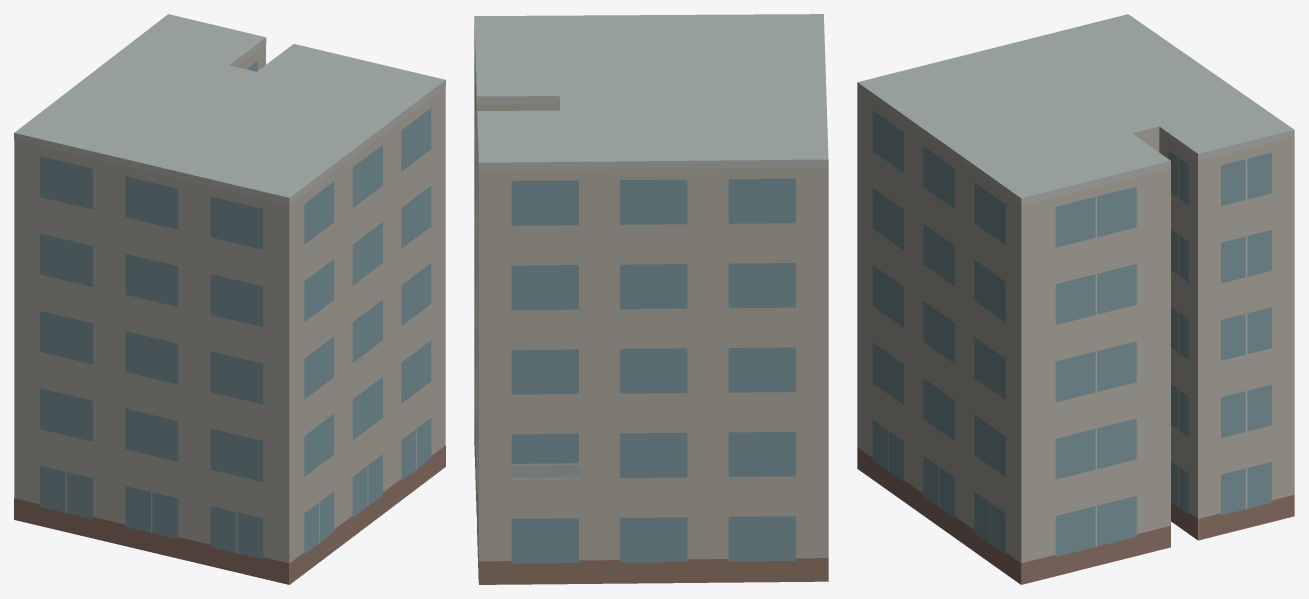
File: survey-upis-32538257.glb
3 views of the same model, side by side, from view 1: azimuth 30°, elevation 25°; view 2: azimuth 150°, elevation 25°; view 3: azimuth 270°, elevation 25° (orthographic). The views are drawn at different scales.
Visible parts, largest first — view 1: survey-upis-32538257.tmp; view 2: survey-upis-32538257.tmp; view 3: survey-upis-32538257.tmp.
Part boxes in pixels (x1,y1,x2,y2): survey-upis-32538257.tmp: (14, 14, 445, 584); survey-upis-32538257.tmp: (474, 14, 828, 584); survey-upis-32538257.tmp: (857, 14, 1294, 584).
Size of the model in its own units: 13.81 by 13.5 by 13.84.
